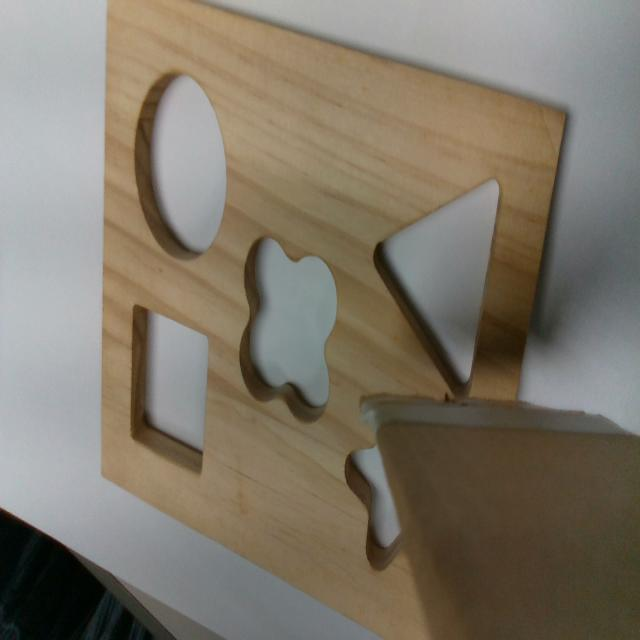circle: (133, 72, 226, 262)
flower: (238, 241, 339, 425)
square: (132, 305, 210, 474)
star: (344, 441, 401, 568)
triangle: (370, 172, 505, 402)
